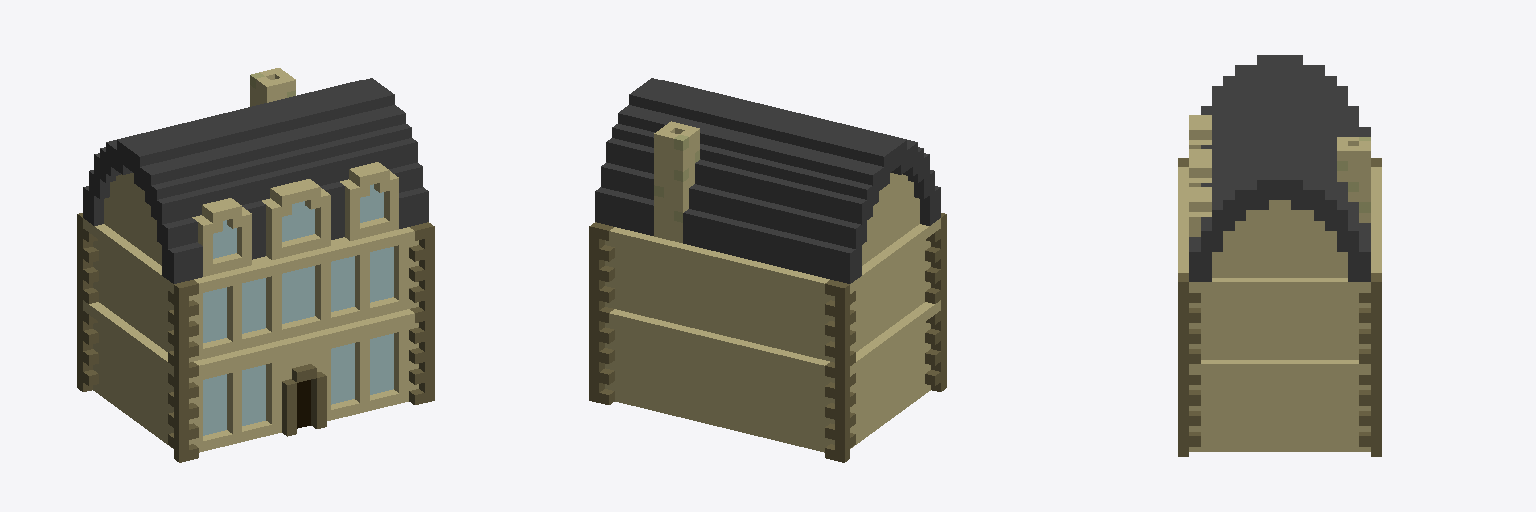
3 views of the same model, side by side, from view 1: azimuth 30°, elevation 25°; view 2: azimuth 150°, elevation 25°; view 3: azimuth 270°, elevation 25° (orthographic).
Visible parts, largest first — view 1: French_Single; view 2: French_Single; view 3: French_Single.
Part boxes in pixels (left/top/right/bottom): French_Single: left=77, top=68, right=434, bottom=462; French_Single: left=589, top=78, right=946, bottom=462; French_Single: left=1178, top=55, right=1381, bottom=456.
Size of the model in its own units: 26 by 27 by 18.
Materials: 1 (1 with a texture image).